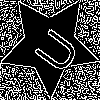U: (25, 20, 82, 77)
